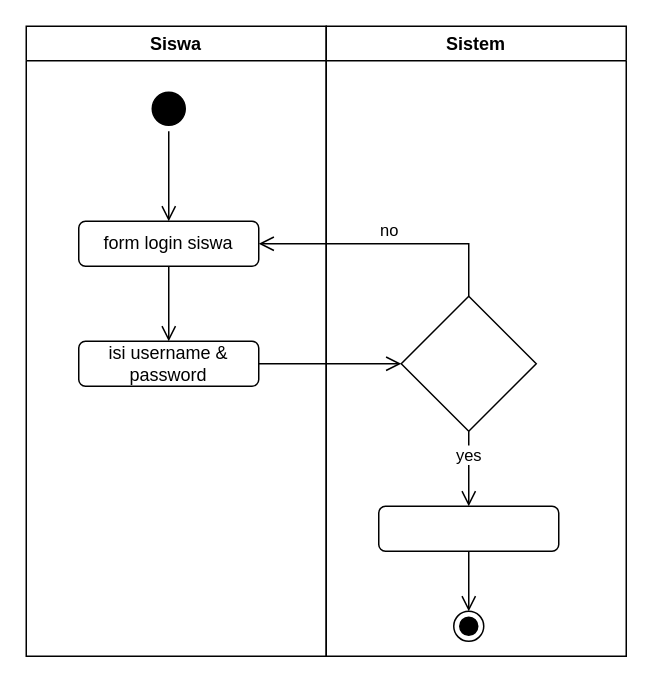
This 653x683 diagram has some shape labels left out. The centre of each missing label's shape, as x and y in pixels:
siswa dashboard: [468,528]
username & pass valid ?: [468,363]
